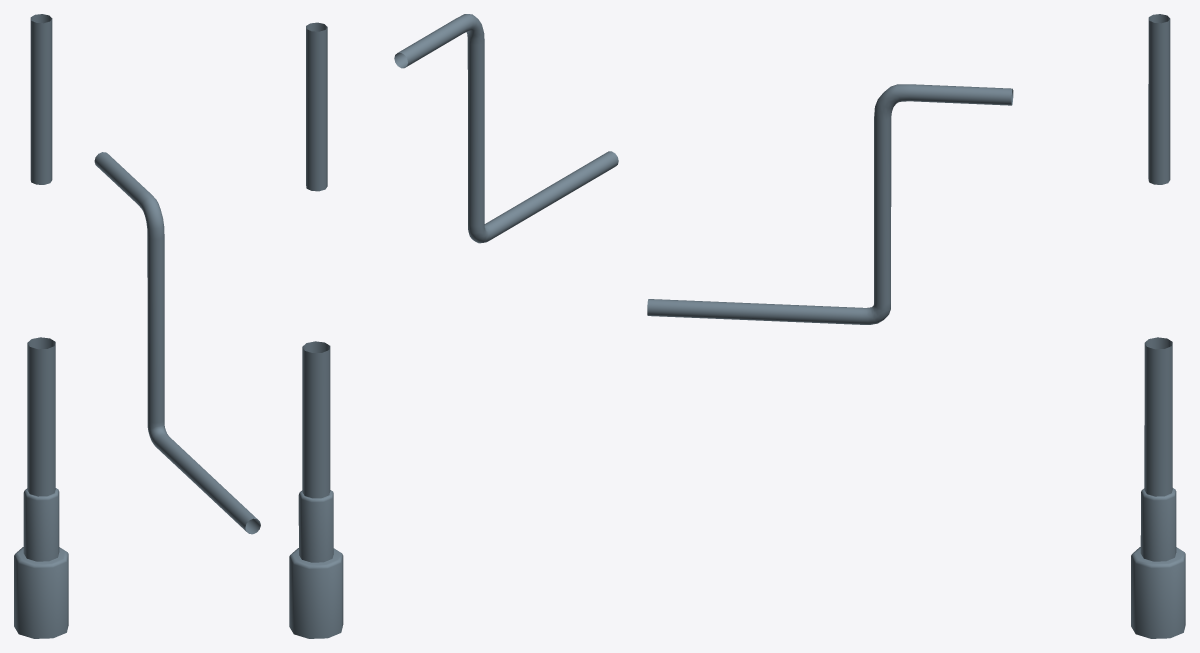
The model's file is 引压管路.fbx.
The picture shows the model from 3 angles, left to right: view 1: azimuth 30°, elevation 25°; view 2: azimuth 150°, elevation 25°; view 3: azimuth 270°, elevation 25°; orthographic projection.
Parts seen in each view (by area): view 1: 引压管_弯管, 引压管_下直段, 引压管_下端接头, 引压管_上直段, 引压管_上端接头; view 2: 引压管_弯管, 引压管_下直段, 引压管_下端接头, 引压管_上直段, 引压管_上端接头; view 3: 引压管_弯管, 引压管_下直段, 引压管_下端接头, 引压管_上直段, 引压管_上端接头.
Boxes of the visible parts, x1,y1,x2,y2 form: 引压管_弯管: (94,152,260,534); 引压管_下直段: (27,337,55,496); 引压管_下端接头: (14,547,68,638); 引压管_上直段: (30,14,52,184); 引压管_上端接头: (23,488,59,561); 引压管_弯管: (394,14,618,243); 引压管_下直段: (302,341,330,498); 引压管_下端接头: (289,548,343,638); 引压管_上直段: (306,22,327,191); 引压管_上端接头: (298,490,333,562); 引压管_弯管: (647,84,1013,324); 引压管_下直段: (1144,337,1172,496); 引压管_下端接头: (1131,547,1185,638); 引压管_上直段: (1148,14,1170,184); 引压管_上端接头: (1140,488,1176,561).
Size of the model in its own units: 0.0234 by 0.1827 by 0.1464.
